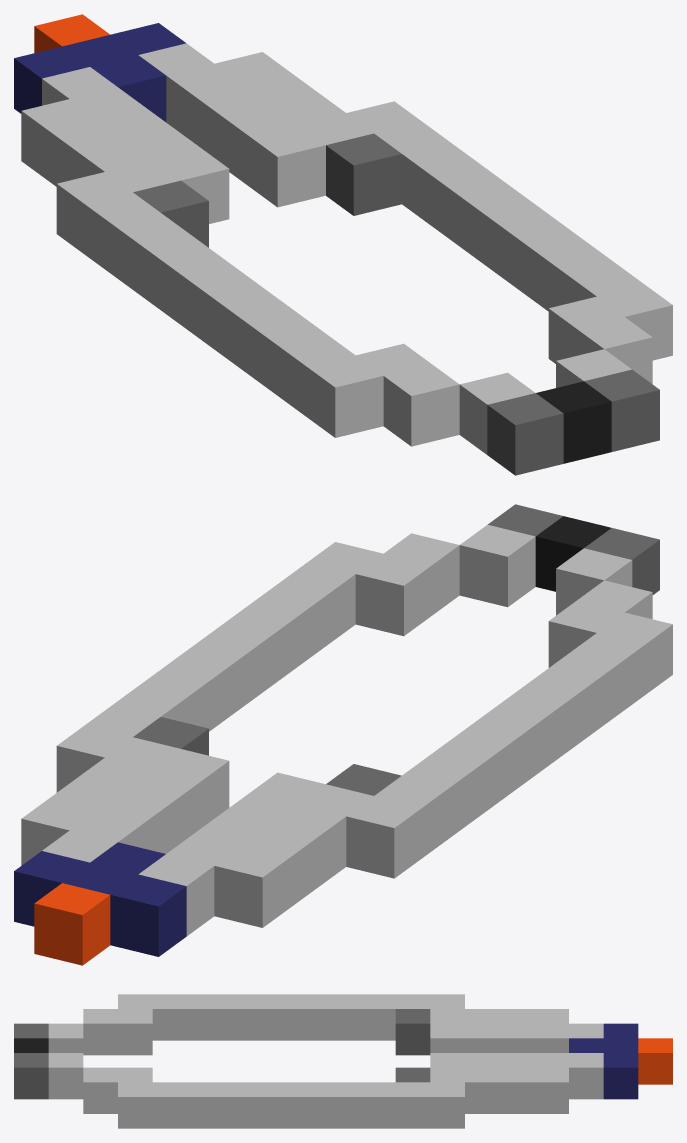
The model's file is speeder_level_2.glb.
The picture shows the model from 3 angles, top to bottom: view 1: azimuth 30°, elevation 25°; view 2: azimuth 150°, elevation 25°; view 3: azimuth 270°, elevation 25°; orthographic projection. The views are drawn at different scales.
Bounding box in the file's own units: 7 × 1 × 19.
